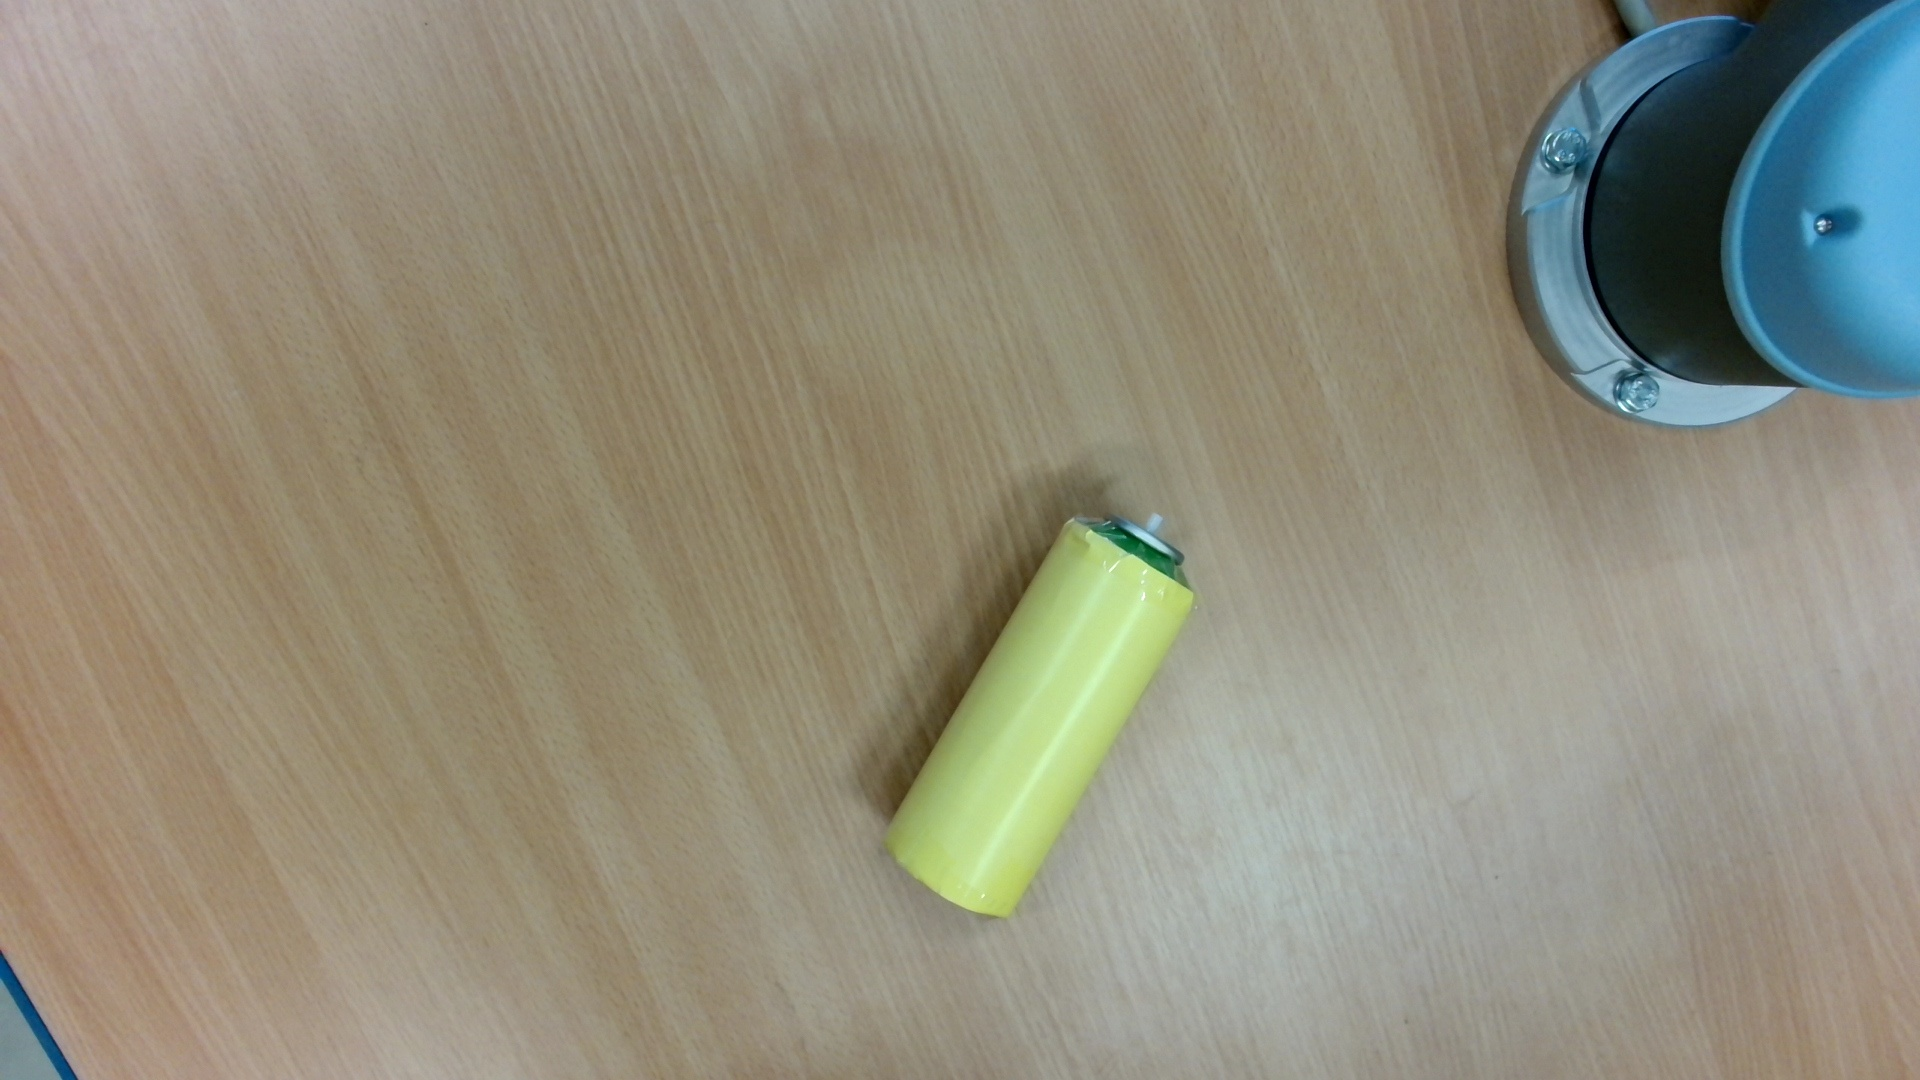Cylinder: (862, 506, 1211, 932)
